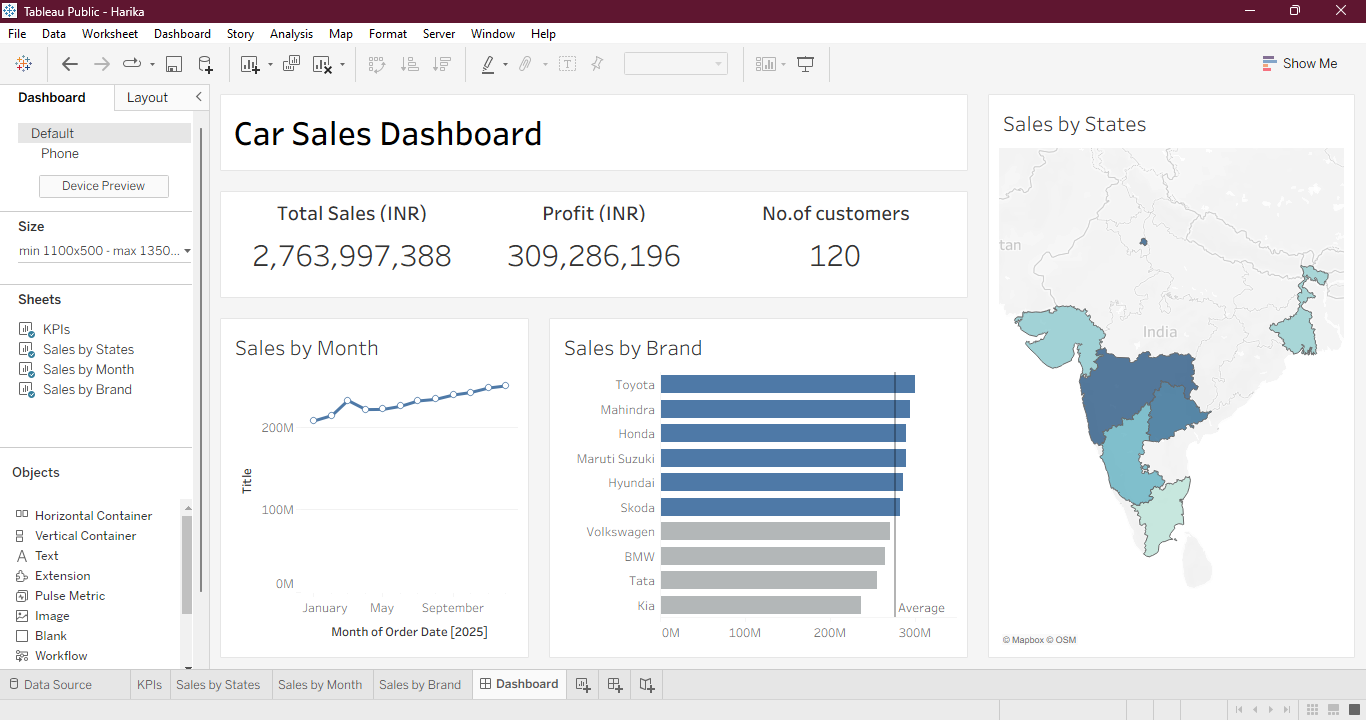

The page's visual inventory and layout, read from the dashboard file:
{"tool":"tableau","page":{"name":"Harika 5","canvas":[1000,1000],"units":"permille","ordinal":0},"visuals":[{"type":"text","box":[0,0,664.9,178.3]},{"type":"worksheet","title":"Sales by States","mark":"Automatic","box":[664.9,0,335.1,1000]},{"type":"worksheet","title":"KPIs","mark":"Automatic","box":[0,178.3,664.9,233.5]},{"type":"worksheet","title":"Sales by Month","mark":"Automatic","rows":["Total Sales (INR)","Total Sales (INR)"],"cols":["Order Date"],"box":[0,411.8,284.8,588.2]},{"type":"worksheet","title":"Sales by Brand","mark":"Automatic","rows":["Car Brand"],"cols":["Total Sales (INR)"],"box":[284.8,411.8,380.1,588.2]}]}

Visuals, with their boxes on the dashboard's canvas, which has no fixed pixel size, in thousandths of its width and height (x1, y1, x2, y2). These are canvas units, not pixel positions in the 1366x720 screenshot, which may show the page scaled, cropped or inside an application window:
text: [0,0,665,178]
"Sales by States" worksheet: [665,0,1000,1000]
"KPIs" worksheet: [0,178,665,412]
"Sales by Month" worksheet: [0,412,285,1000]
"Sales by Brand" worksheet: [285,412,665,1000]
